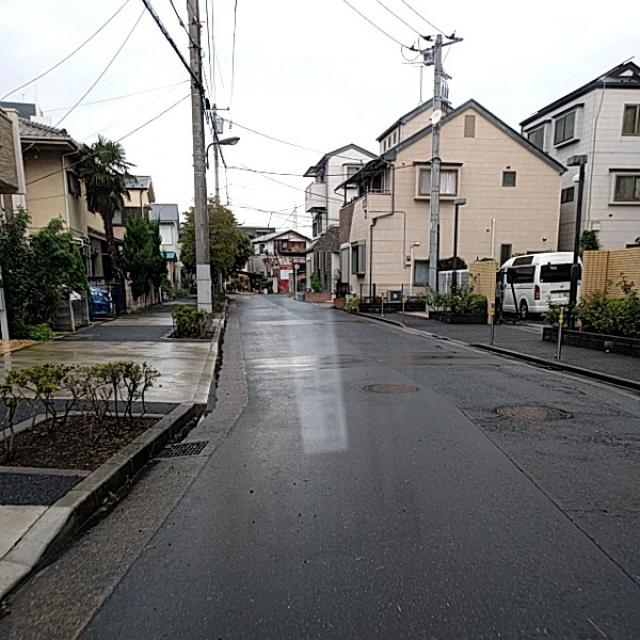pothole: (497, 402, 558, 423)
